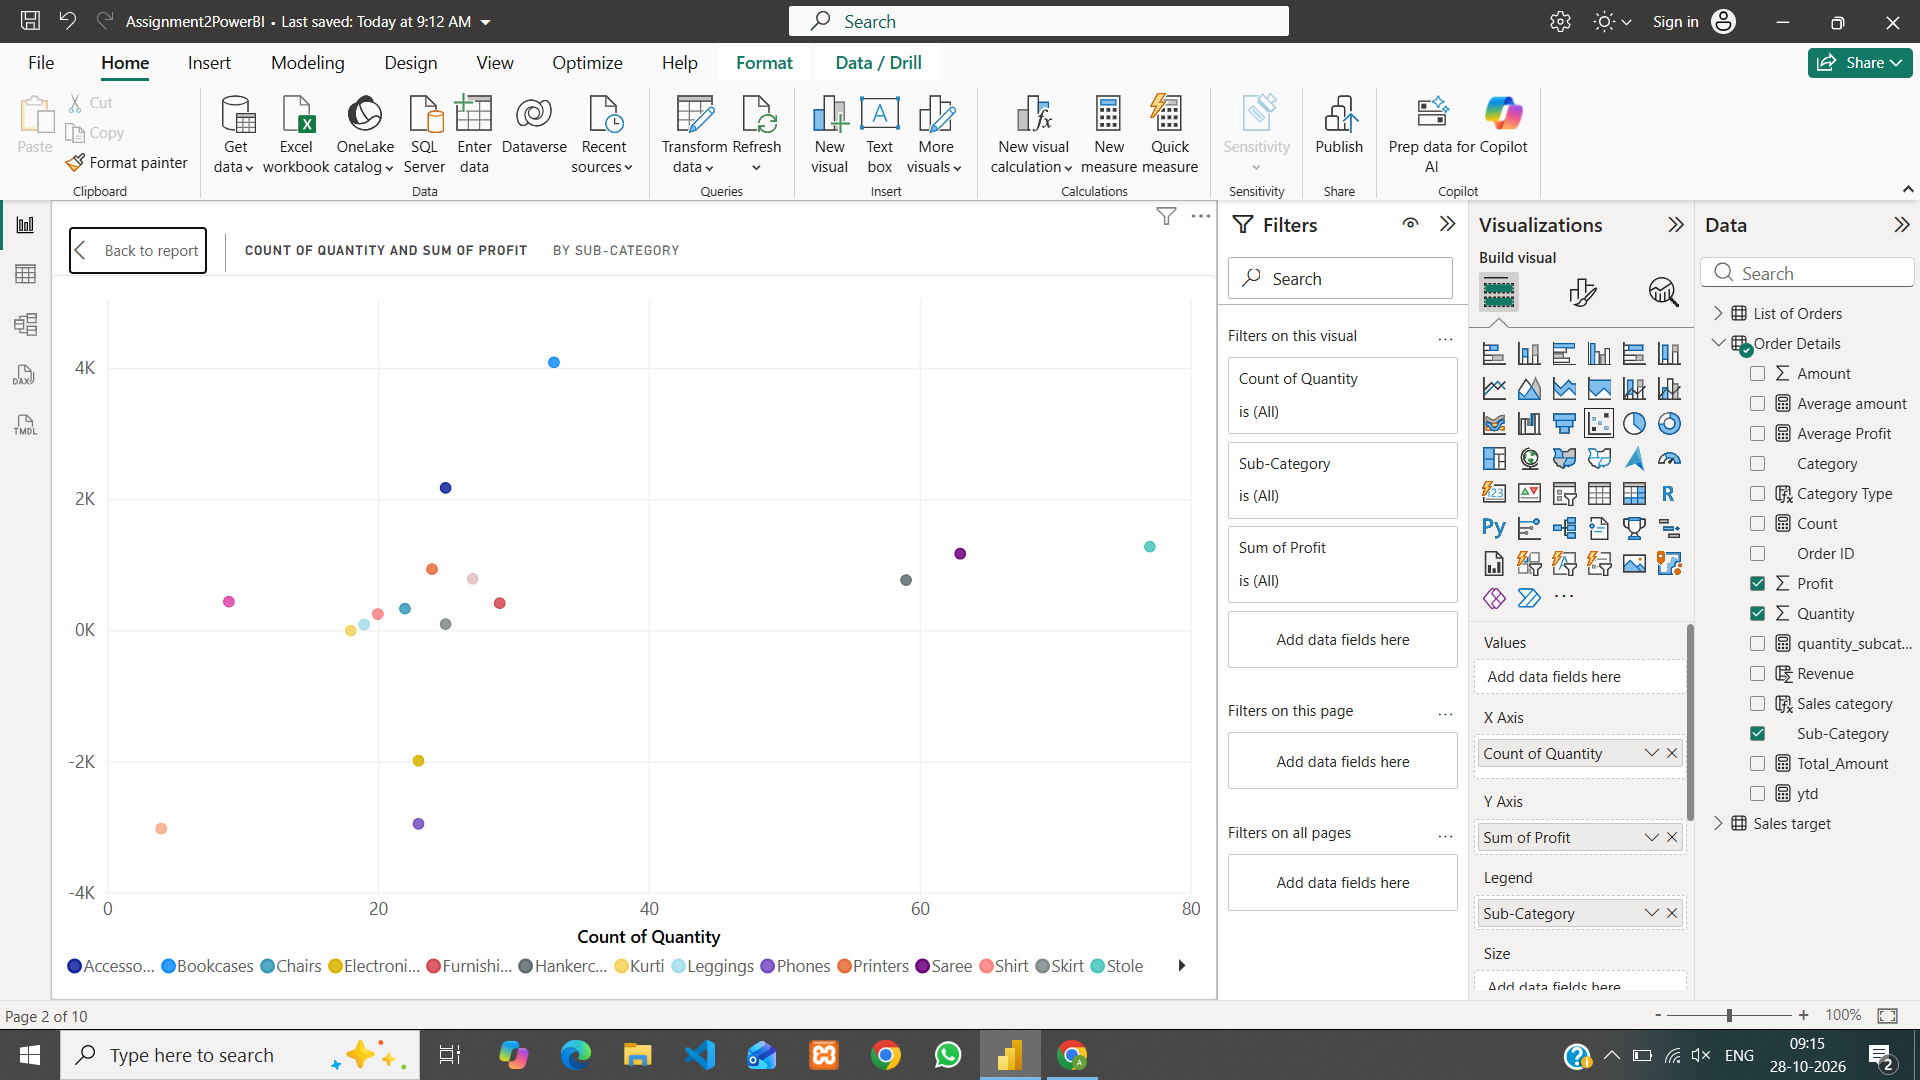

Layout of this report page (visuals, bound fields, positions):
{"tool":"powerbi","page":{"name":"Scatter Chart","canvas":[1920,1080],"ordinal":1},"visuals":[{"type":"scatterChart","fields":{"Series":["Order Details.Sub-Category"],"X":["CountNonNull(Order Details.Quantity)"],"Y":["Sum(Order Details.Profit)"]},"box":[35,67.9,1751.6,940.7],"z":1000}]}

Visuals, with their boxes on the page's 1920x1080 design canvas (x1, y1, x2, y2). These are canvas units, not pixel positions in the 1920x1080 screenshot, which may show the page scaled, cropped or inside an application window:
scatterChart - Order Details.Sub-Category x CountNonNull(Order Details.Quantity): 35/68/1787/1009
